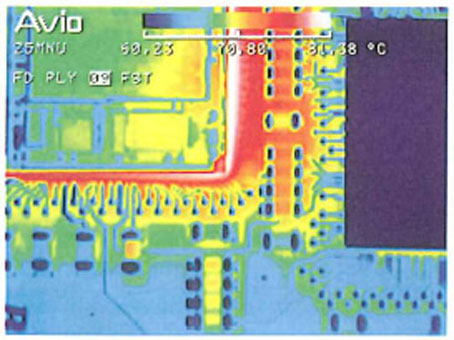componente_T: (132, 4, 335, 241)
